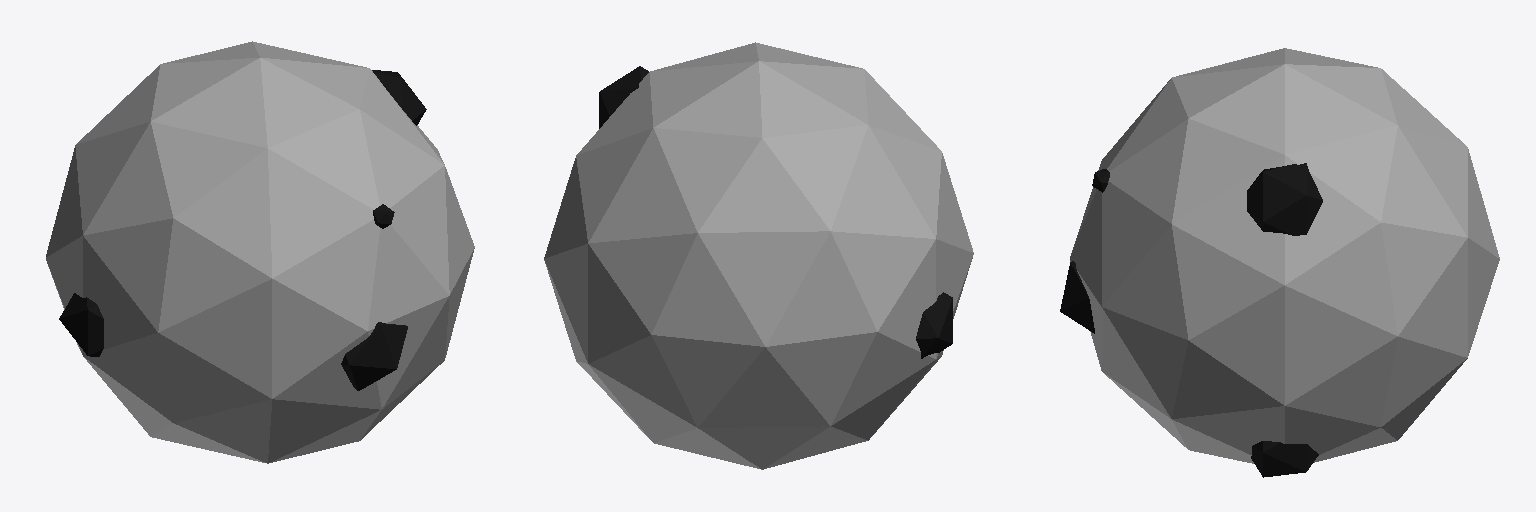
File: Moon_1226.obj
The picture shows the model from 3 angles: view 1: azimuth 30°, elevation 25°; view 2: azimuth 150°, elevation 25°; view 3: azimuth 270°, elevation 25°; orthographic projection.
Visible parts, largest first — view 1: GeoSphere004; view 2: GeoSphere004; view 3: GeoSphere004.
Boxes of the visible parts, x1,y1,x2,y2 form: GeoSphere004: [46, 41, 474, 463]; GeoSphere004: [544, 42, 973, 469]; GeoSphere004: [1060, 48, 1499, 477].
Size of the model in its own units: 69.85 by 70.81 by 72.4.